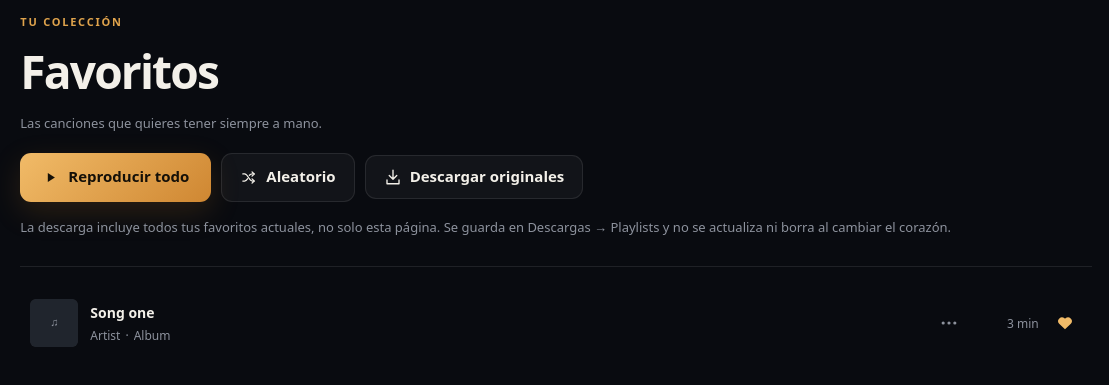
Test case: FavoritesComponent › removes a track from the visible list after unmarking it
Click the button with class "track-row__favorite". click: (1065, 323)
box: [1048,306,1082,340]
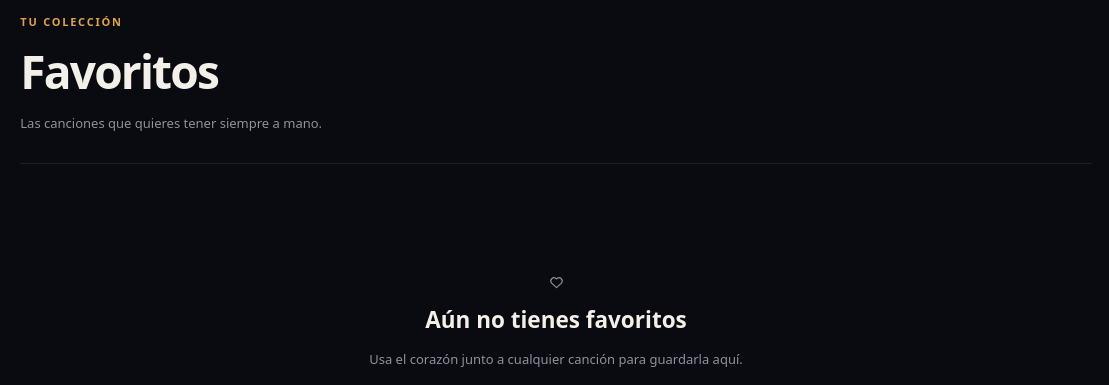
Now no list items with class "track-row" are shown
Now the element with class "empty-state" is shown, box [369,275,743,368]
